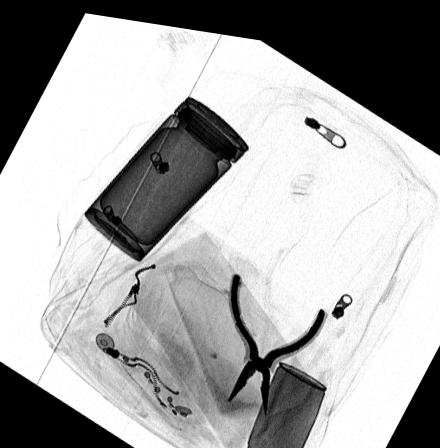Pliers: (224, 263, 326, 405)
